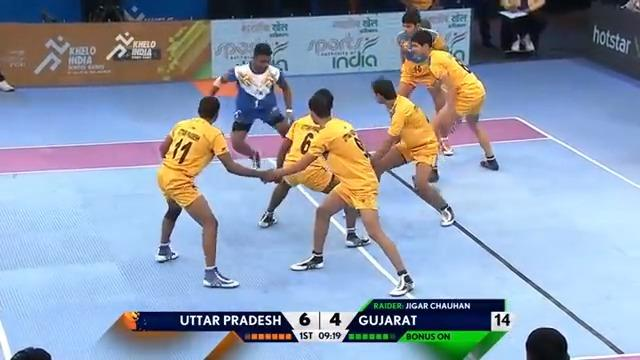Player: (258, 87, 416, 297), (151, 93, 276, 290), (395, 29, 499, 182), (365, 78, 456, 227), (372, 11, 445, 113)
Raider: (208, 42, 294, 169)
referee: (498, 0, 547, 56), (524, 326, 570, 359), (9, 346, 51, 359)
